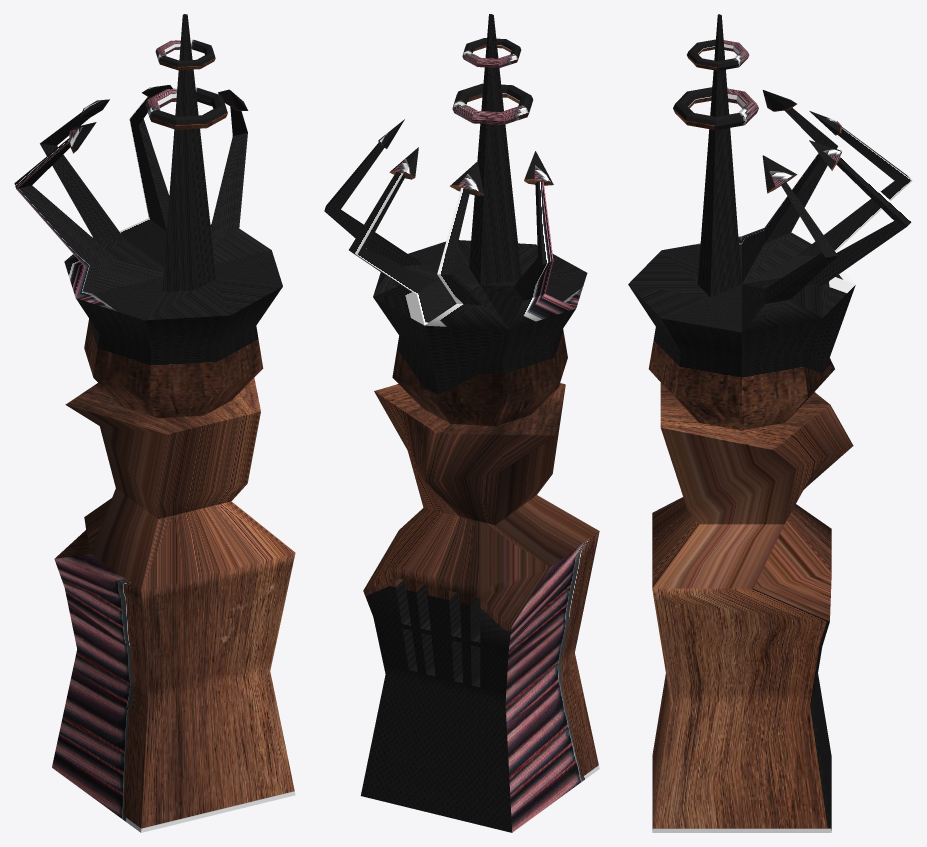
File: RobotGun02_color.obj
3 renders of one model, left to right at view 1: azimuth 30°, elevation 25°; view 2: azimuth 150°, elevation 25°; view 3: azimuth 270°, elevation 25°, orthographic. The views are drawn at different scales.
Parts seen in each view (by area): view 1: pTorus4; view 2: pTorus4; view 3: pTorus4.
Part boxes in pixels (x1,y1,x2,y2): pTorus4: (14, 14, 295, 832); pTorus4: (324, 14, 599, 832); pTorus4: (628, 14, 912, 832).
Bounding box in the file's own units: 150 × 479 × 159.
